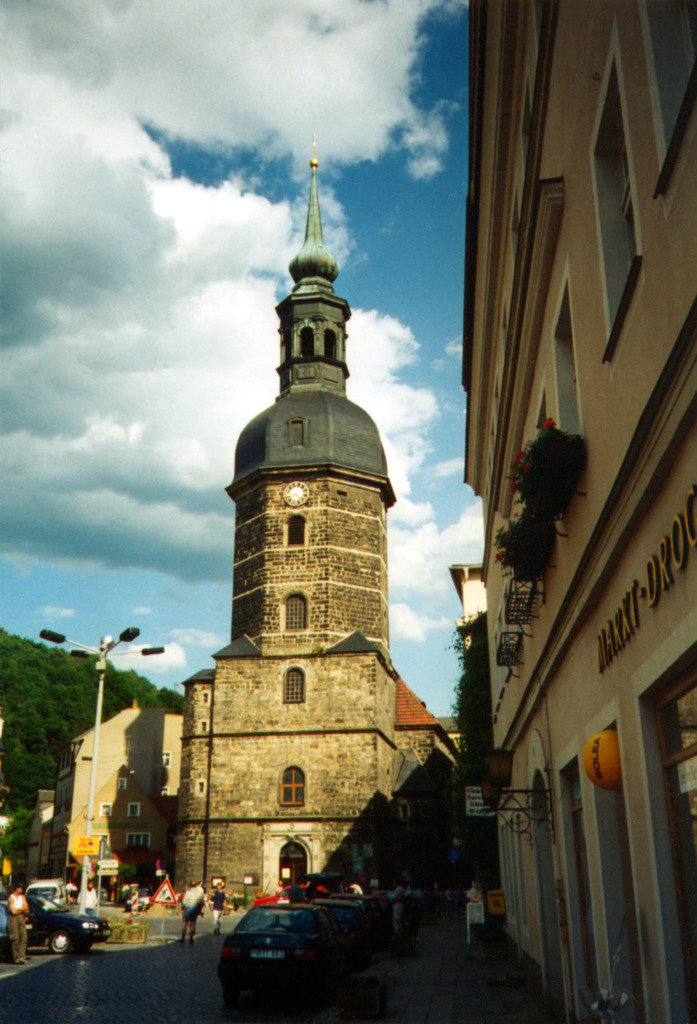Car: (202, 890, 376, 1004), (24, 894, 110, 959)
